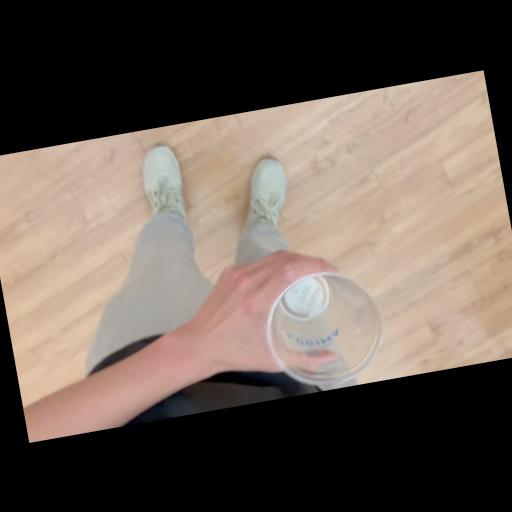lp_plastic_cup: (256, 260, 394, 398)
